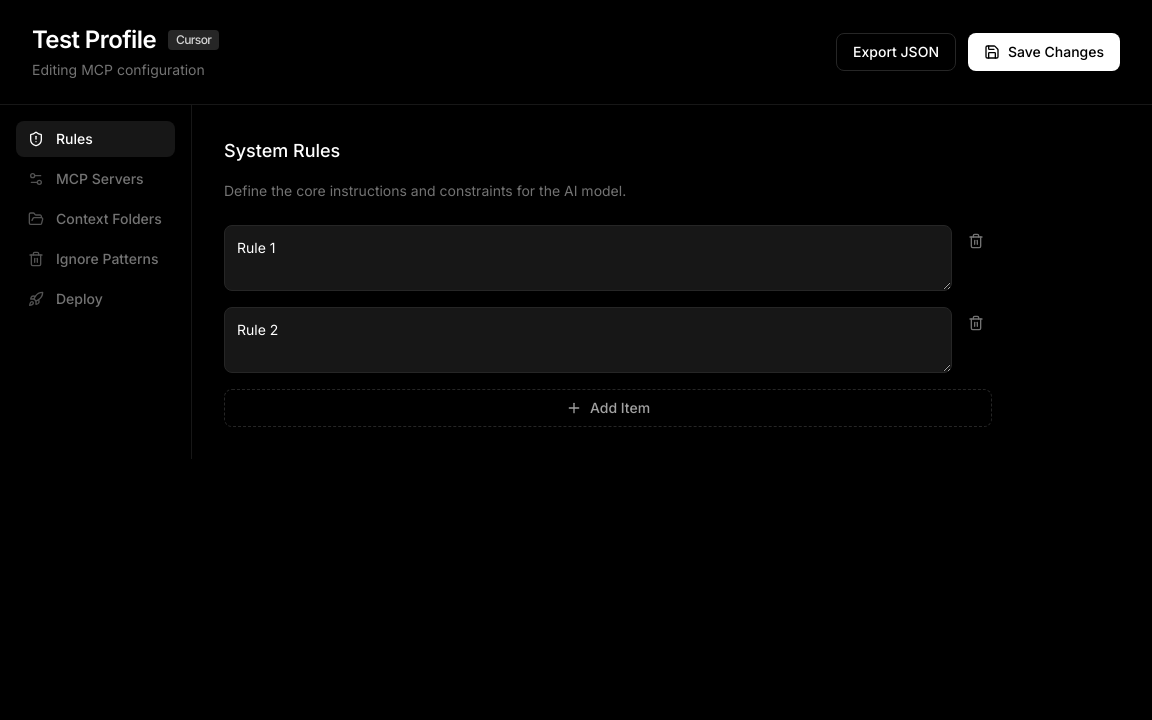
EditorView › adds a new MCP server entry
Click the button "MCP Servers" at coordinates (96, 179), box [16,161,175,197]
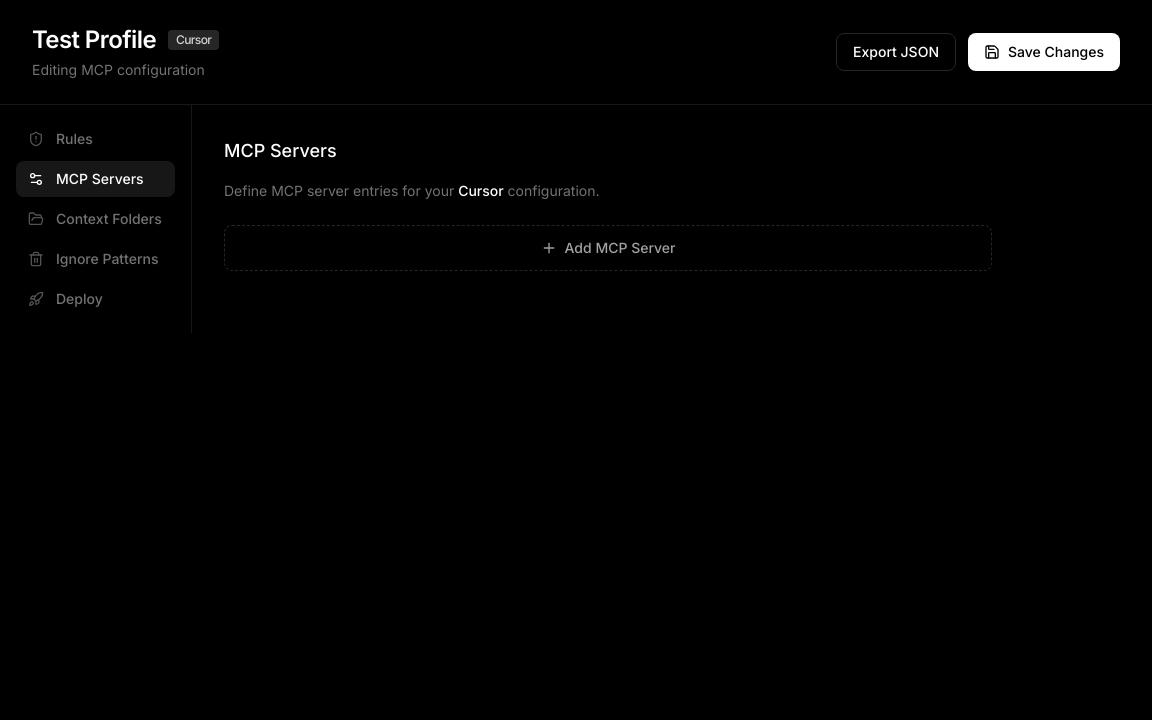
Click the button "Add MCP Server" at coordinates (608, 248), box [224,225,992,271]
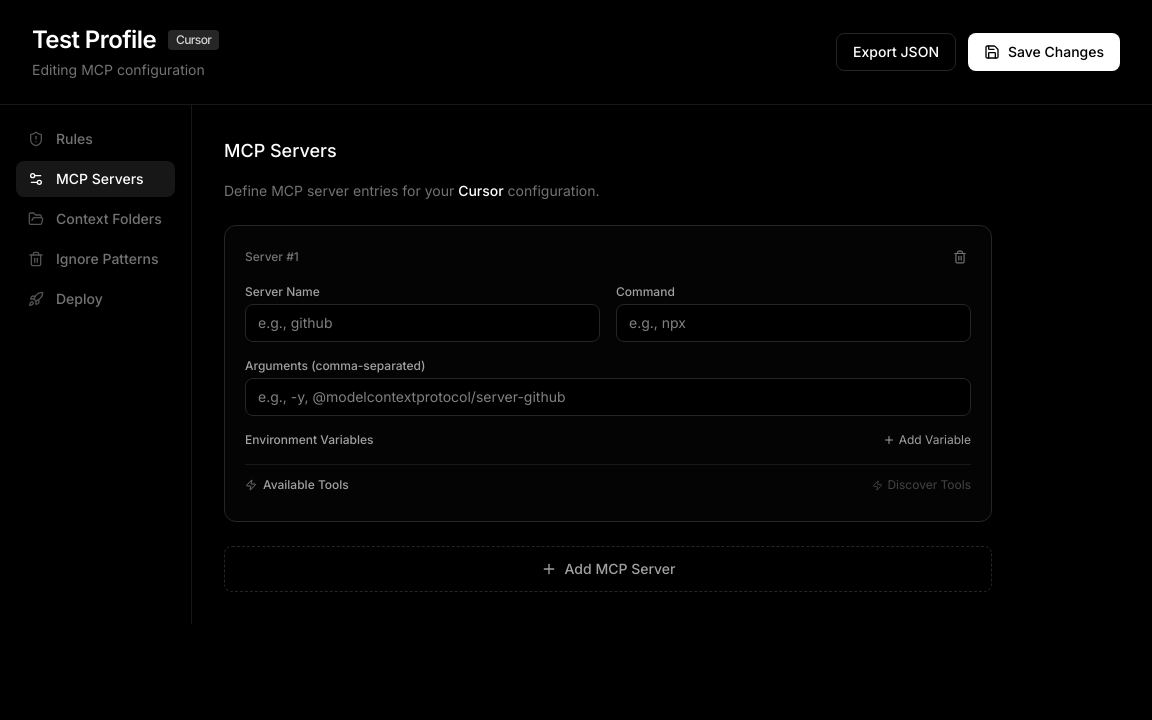
Now the text "Server #1" is shown, box [245,249,299,265]
